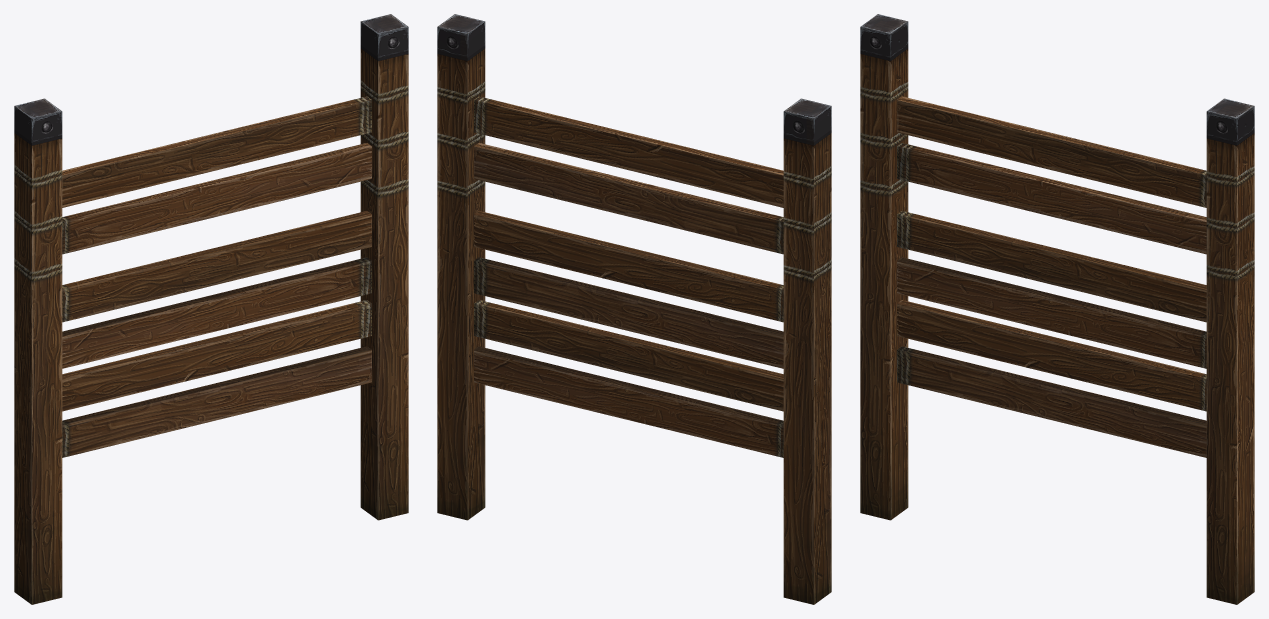
The model's file is Barrier1.fbx.
3 renders of one model, left to right at view 1: azimuth 30°, elevation 25°; view 2: azimuth 150°, elevation 25°; view 3: azimuth 330°, elevation 25°, orthographic.
Visible parts, largest first — view 1: polySurface557; view 2: polySurface557; view 3: polySurface557.
Part boxes in pixels (x1,y1,x2,y2): polySurface557: [14, 14, 408, 604]; polySurface557: [437, 14, 831, 604]; polySurface557: [860, 14, 1254, 604].
Bounding box in the file's own units: 3.71 × 4.58 × 0.2985.
1 material, 1 textured.
